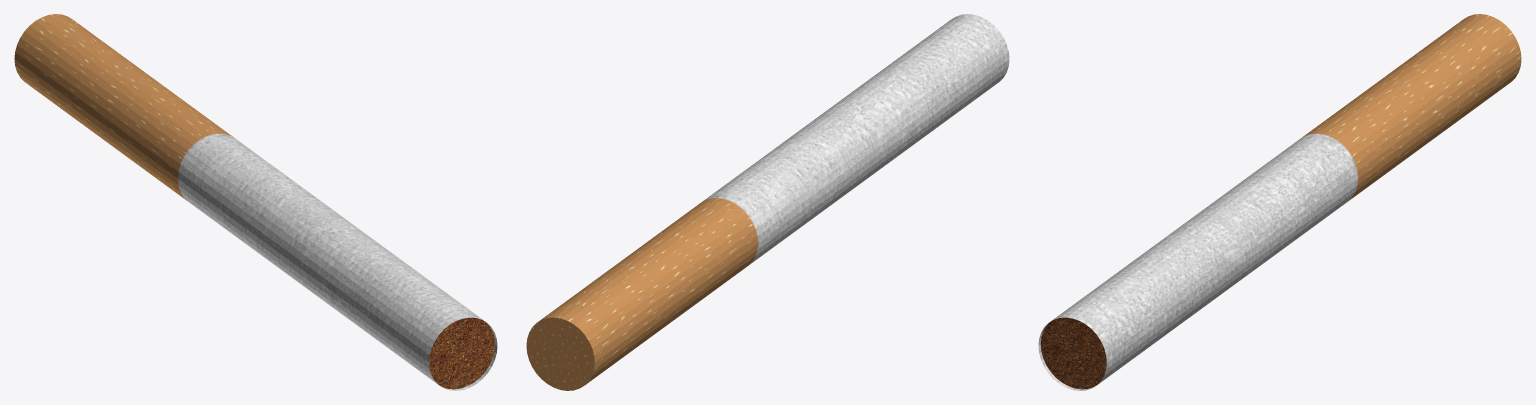
Rendered from cigarettebyxvito.fbx.
The picture shows the model from 3 angles, left to right: view 1: azimuth 30°, elevation 25°; view 2: azimuth 150°, elevation 25°; view 3: azimuth 330°, elevation 25°; orthographic projection.
Parts seen in each view (by area): view 1: Cylinder; view 2: Cylinder; view 3: Cylinder.
Part boxes in pixels (x1=…): Cylinder: x1=14, y1=14, x2=497, y2=390; Cylinder: x1=526, y1=14, x2=1009, y2=390; Cylinder: x1=1038, y1=14, x2=1521, y2=390.
Bounding box in the file's own units: 0.8 × 0.8 × 8.4.
